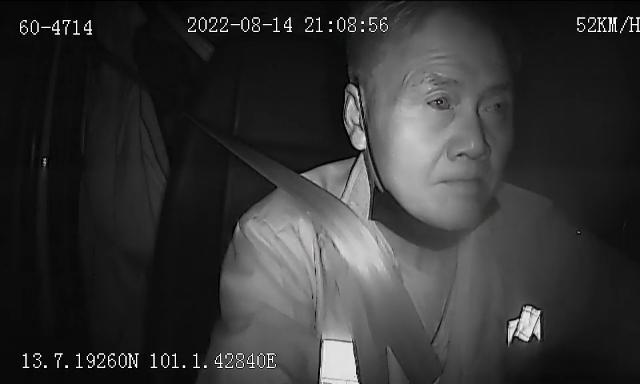SafeDriving: (472, 86, 514, 124), (419, 81, 459, 117)
Seatbelt: (206, 121, 479, 382)
